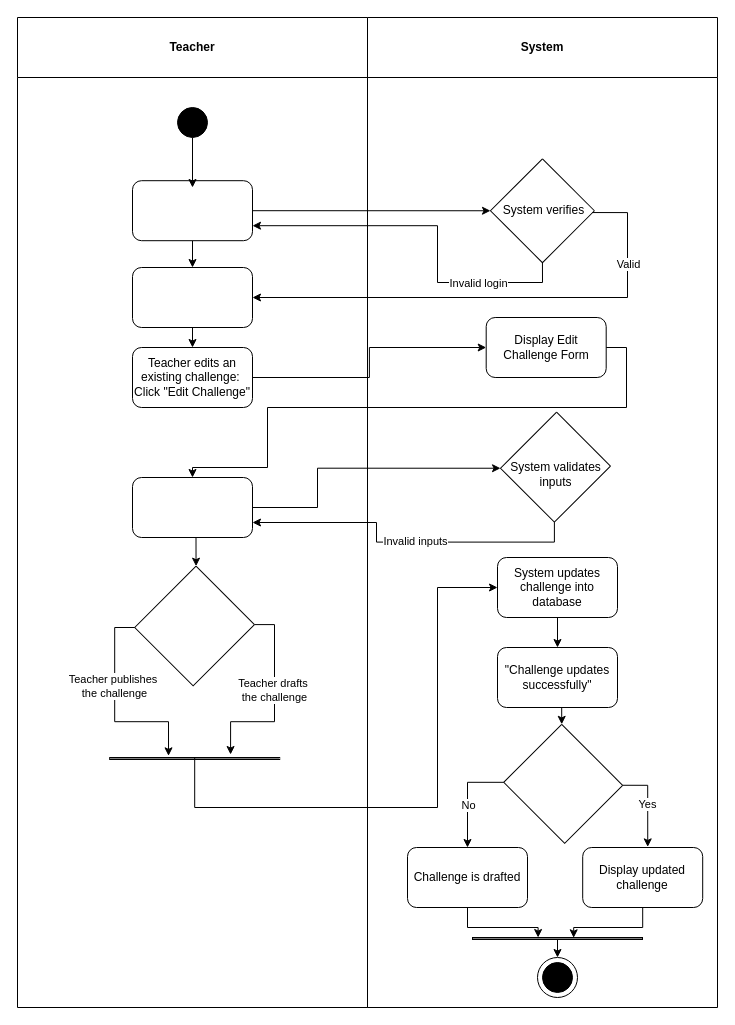
This 735x1025 diagram has some shape labels left out. Here are the shapes that lost their labels. From the top down, the centre of each, then its label:
At (x=192, y=210): "Teacher logs into the system".
At (x=192, y=297): "Teacher navigates to specific course and topic".
At (x=192, y=507): "Teacher updates fields (Title, Difficulty...etc.)".
At (x=194, y=625): "Teacher submits challenge".
At (x=562, y=783): "Teacher published challenge".
